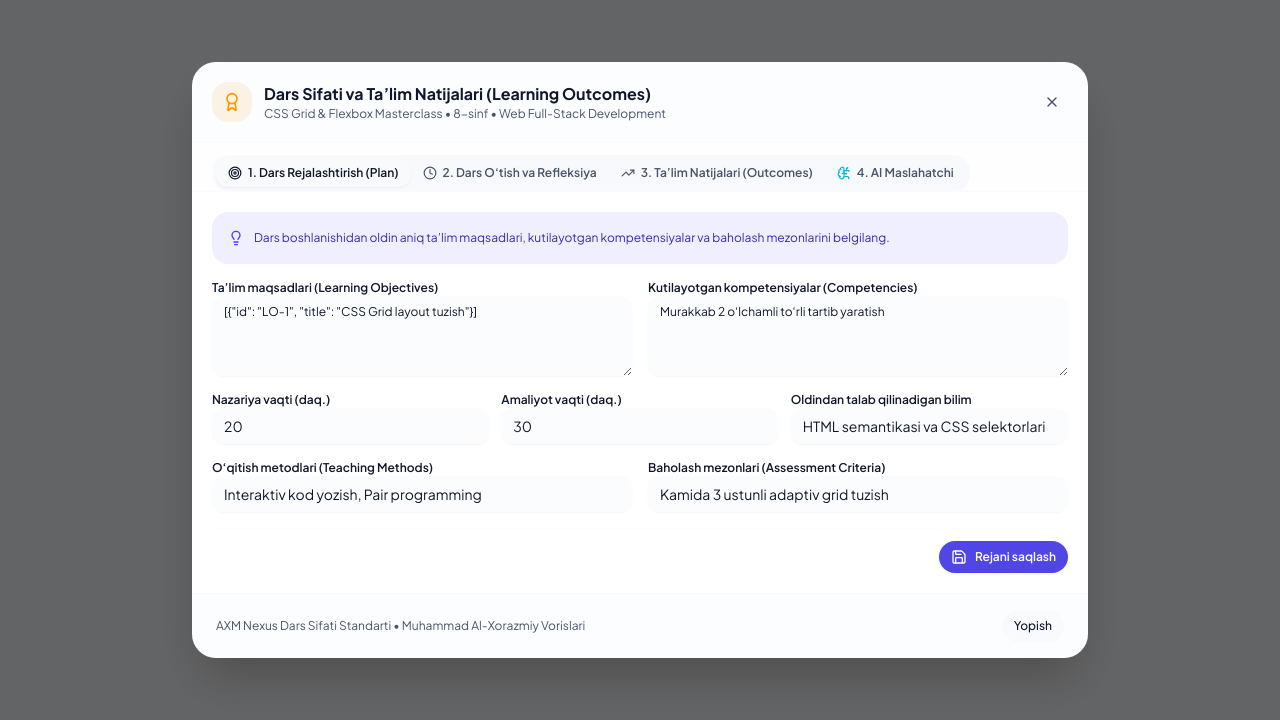
Test: Section 25: LessonQualityModal Component Tests › allows switching to AI Advisory tab and displays suggestions with disclaimer
Expected: the text "CSS Grid & Flexbox Masterclass" is shown, top-left (264, 106), bottom-right (443, 121)
Click the button "4. AI Maslahatchi". click: (895, 173)
box: top-left (825, 159), bottom-right (966, 187)
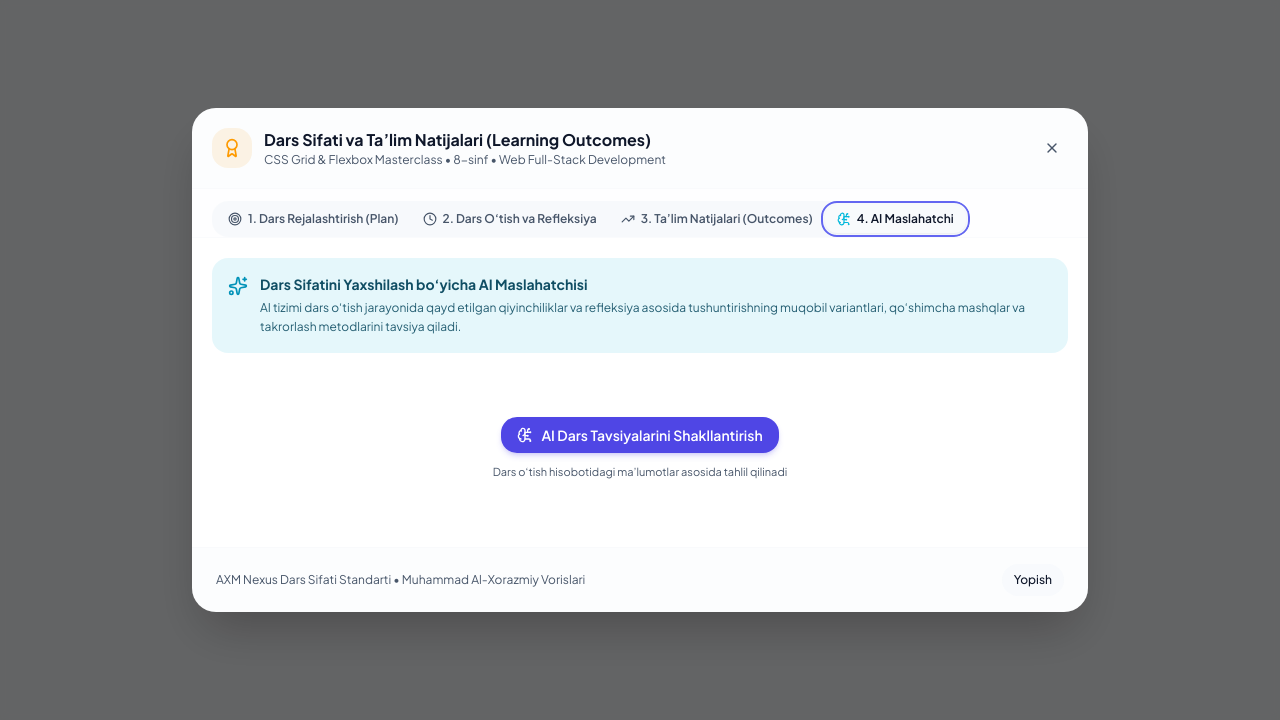
Expected: the heading "Dars Sifatini Yaxshilash bo‘yicha AI Maslahatchisi" is shown, top-left (260, 275), bottom-right (588, 293)
// Click to generate/load suggestions
Click the button "AI Dars Tavsiyalarini Shakllantirish". click: (640, 435)
box: top-left (501, 417), bottom-right (779, 453)
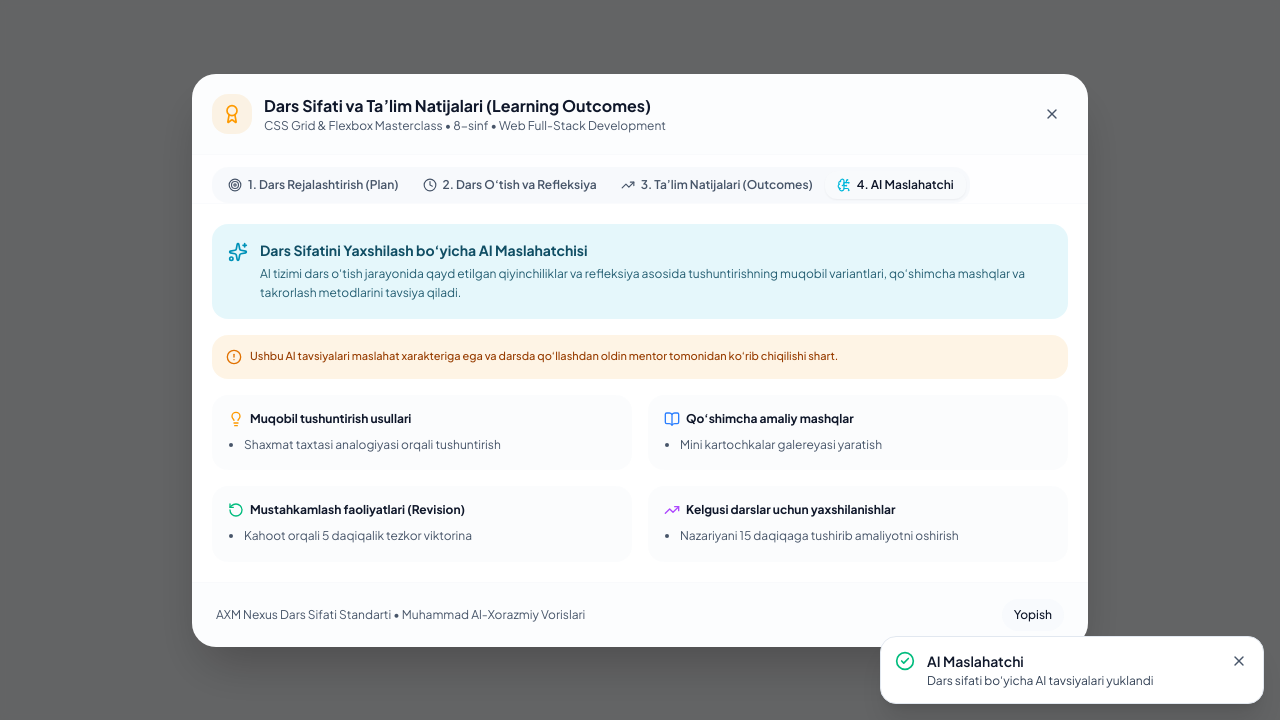
Expected: the text "mentor tomonidan ko‘rib chiqilishi shart" is shown, top-left (250, 349), bottom-right (838, 362)
